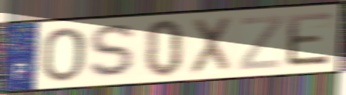0: (139, 18, 187, 79)
E: (285, 10, 335, 69)
O: (41, 25, 88, 84)
S: (86, 22, 141, 81)
X: (187, 14, 235, 77)
Z: (237, 13, 285, 72)
